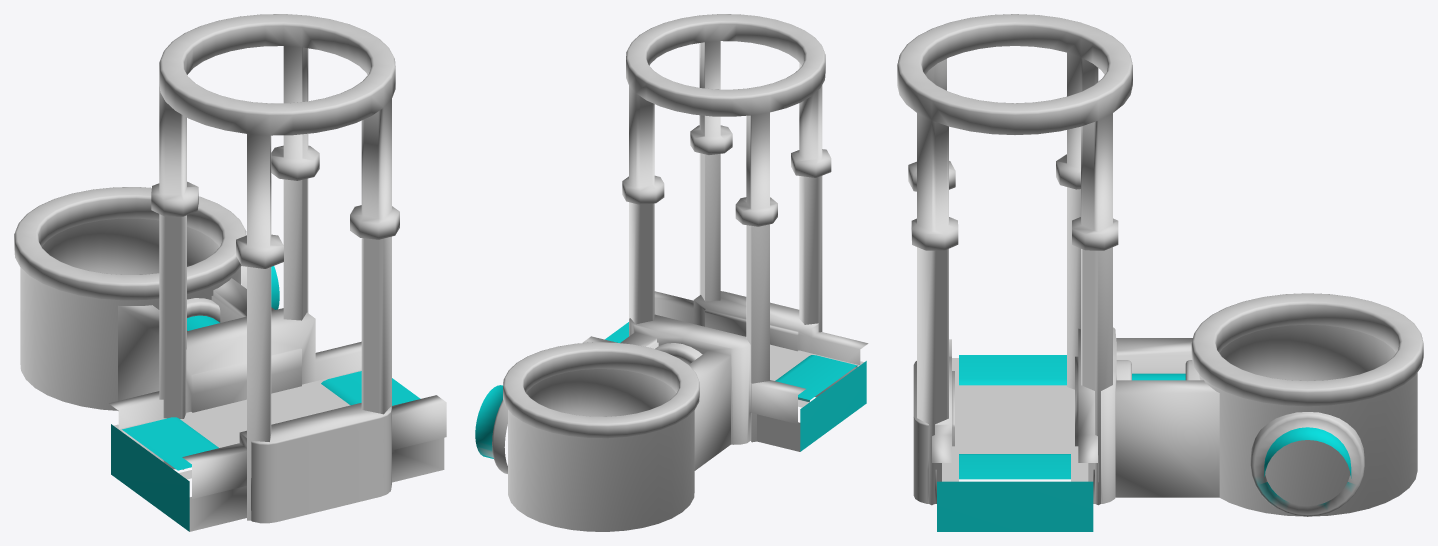
The model's file is CrystalGeneratorDefaultInternalVariant.gltf.
The picture shows the model from 3 angles, left to right: view 1: azimuth 30°, elevation 25°; view 2: azimuth 150°, elevation 25°; view 3: azimuth 270°, elevation 25°; orthographic projection. The views are drawn at different scales.
Parts seen in each view (by area): view 1: CrystalGenerator_Default_Main_LOD0; view 2: CrystalGenerator_Default_Main_LOD0; view 3: CrystalGenerator_Default_Main_LOD0.
Part boxes in pixels (<box>): CrystalGenerator_Default_Main_LOD0: <box>14,14,446,531</box>; CrystalGenerator_Default_Main_LOD0: <box>475,14,868,531</box>; CrystalGenerator_Default_Main_LOD0: <box>897,14,1423,531</box>.
Bounding box in the file's own units: 1 × 1.54 × 1.8.
